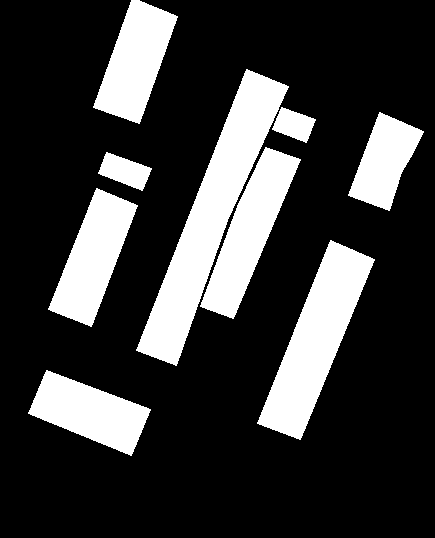parkingspot: (136, 69, 288, 365), (257, 240, 374, 439), (200, 147, 300, 318), (48, 188, 137, 326), (28, 370, 150, 455), (93, 0, 177, 123), (348, 112, 423, 210), (98, 152, 151, 190), (272, 107, 315, 142)
